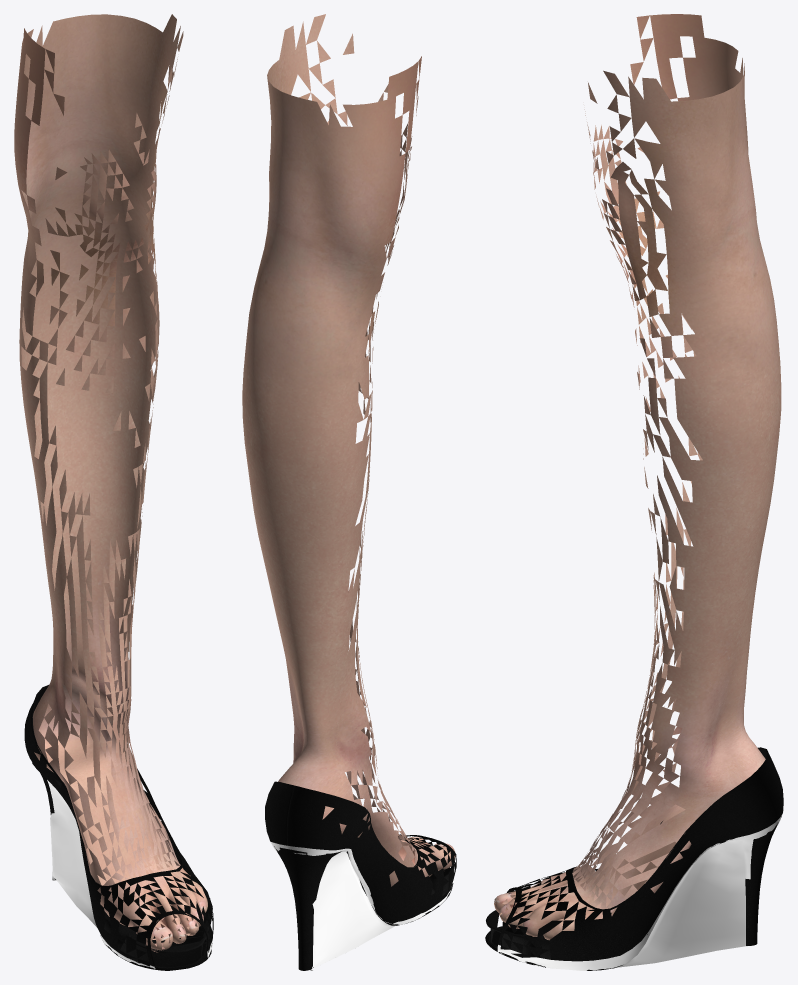
File: PieIzquierdo.obj
3 views of the same model, side by side, from view 1: azimuth 30°, elevation 25°; view 2: azimuth 150°, elevation 25°; view 3: azimuth 270°, elevation 25° (orthographic).
Parts seen in each view (by area): view 1: body, shoes_l_Shape; view 2: body, shoes_l_Shape; view 3: body, shoes_l_Shape.
Boxes of the visible parts, x1,y1,x2,y2 form: body: (14, 14, 207, 952); shoes_l_Shape: (24, 685, 213, 970); body: (242, 14, 455, 886); shoes_l_Shape: (265, 781, 456, 970); body: (494, 14, 781, 940); shoes_l_Shape: (485, 747, 783, 970).
Bounding box in the file's own units: 0.1164 × 0.7224 × 0.2171.
4 materials, 4 textured.
